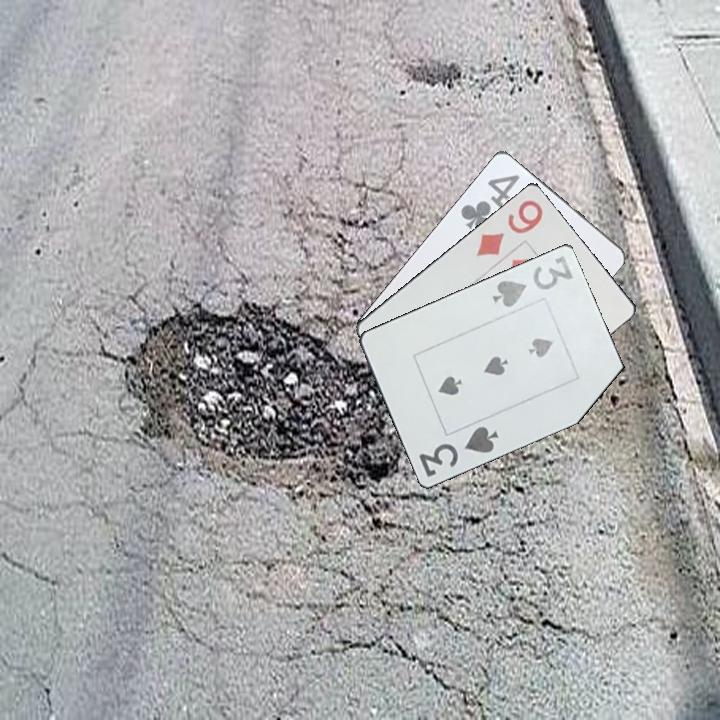3s: (489, 251, 576, 310), (415, 422, 502, 480)
4c: (457, 170, 523, 235)
9d: (472, 196, 547, 260)
